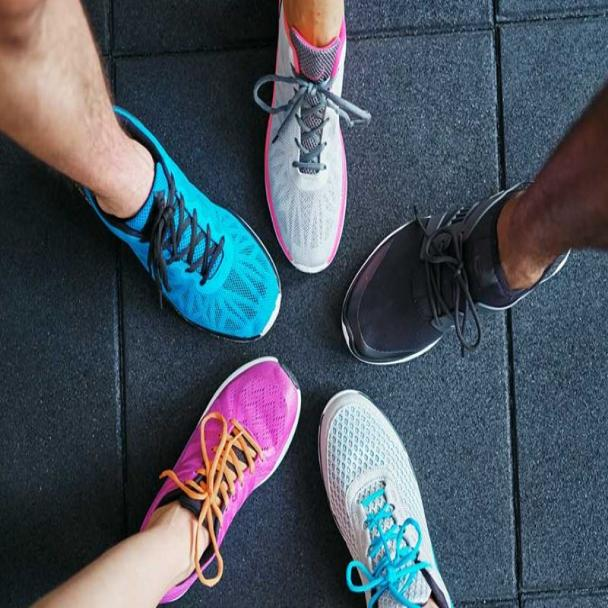Sepatu: (58, 87, 279, 343), (342, 162, 569, 362), (163, 348, 301, 608), (312, 383, 451, 608), (258, 0, 354, 273)
